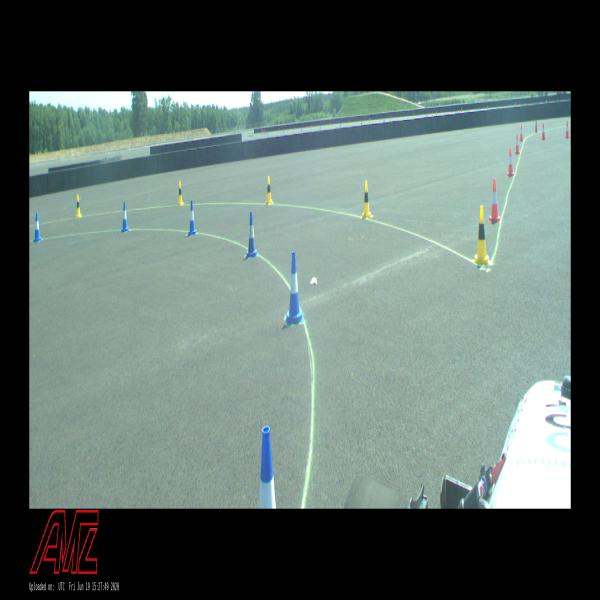blue_cone: (259, 426, 276, 509), (286, 251, 304, 325), (245, 212, 257, 258), (188, 200, 196, 236), (121, 202, 129, 232), (34, 213, 41, 242)
orange_cone: (490, 179, 500, 222), (507, 148, 514, 176), (515, 133, 520, 154), (565, 122, 570, 138), (542, 123, 546, 140), (520, 125, 524, 141)
unknown_cone: (535, 121, 537, 132)
yellow_cone: (473, 207, 490, 265), (362, 181, 372, 218), (266, 176, 273, 205), (178, 182, 184, 206), (76, 194, 82, 218)
